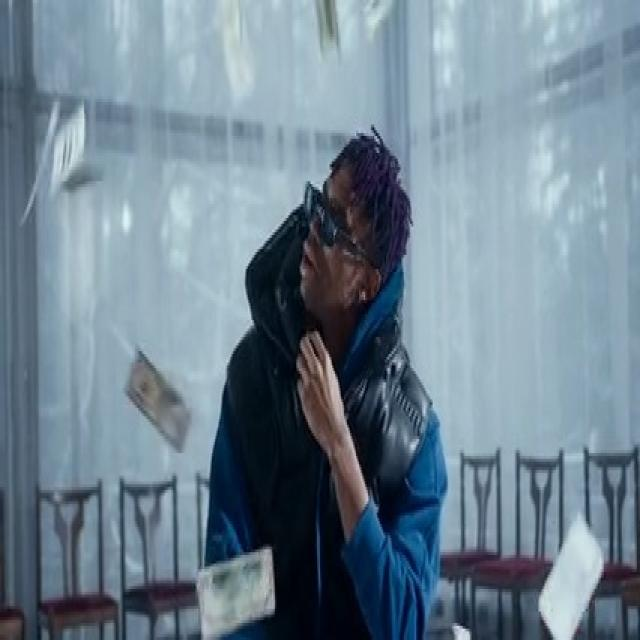Jacket_Wearer: (225, 257, 428, 640)
Person: (198, 107, 447, 640)
